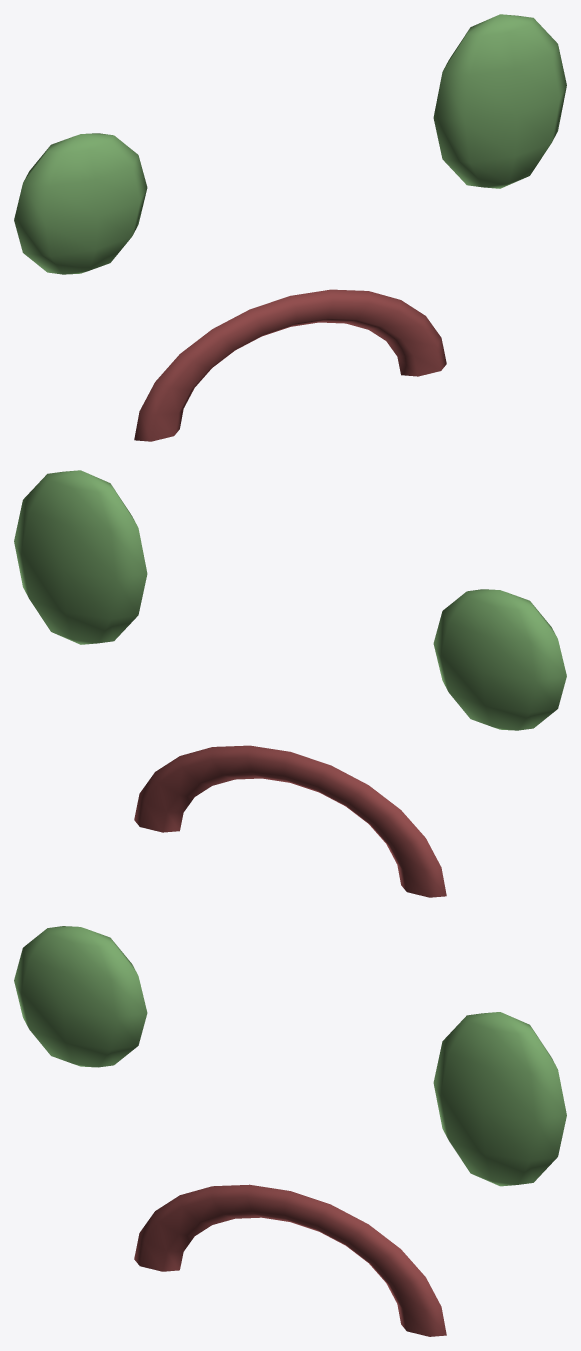
The model's file is resident_02_face.glb.
The picture shows the model from 3 angles, top to bottom: view 1: azimuth 30°, elevation 25°; view 2: azimuth 150°, elevation 25°; view 3: azimuth 330°, elevation 25°; orthographic projection.
Parts seen in each view (by area): view 1: eye_r, eye_l, mouth; view 2: eye_r, eye_l, mouth; view 3: eye_r, eye_l, mouth.
Part boxes in pixels (<box>): eye_r: <box>433,14,566,188</box>; eye_l: <box>14,133,147,274</box>; mouth: <box>134,289,446,441</box>; eye_r: <box>14,470,147,644</box>; eye_l: <box>433,589,566,730</box>; mouth: <box>134,745,446,897</box>; eye_r: <box>433,1012,566,1186</box>; eye_l: <box>14,926,147,1067</box>; mouth: <box>134,1184,446,1336</box>.
Size of the model in its own units: 0.29 by 0.1688 by 0.0315.
